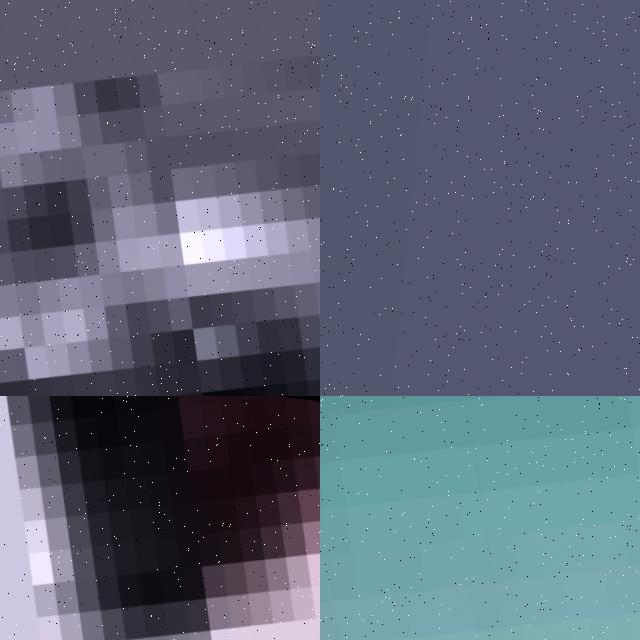drone: (0, 0, 320, 396), (0, 396, 320, 640), (320, 396, 640, 640)
